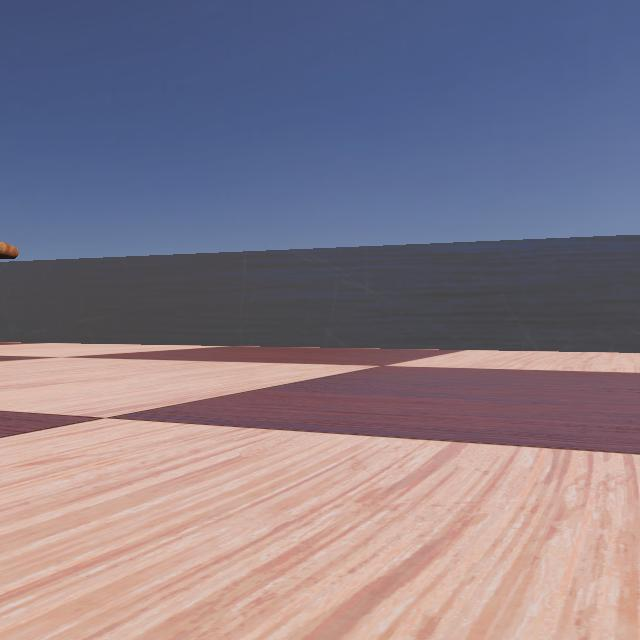cat: (1, 226, 26, 260)
